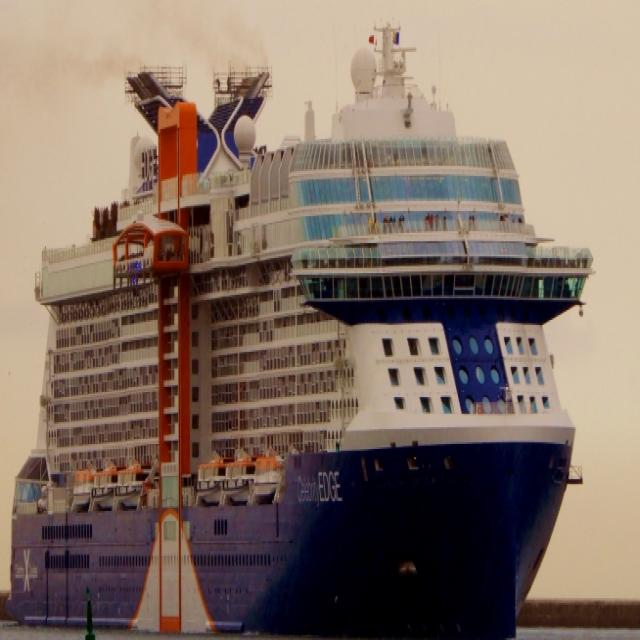cruises: (8, 23, 602, 640)
